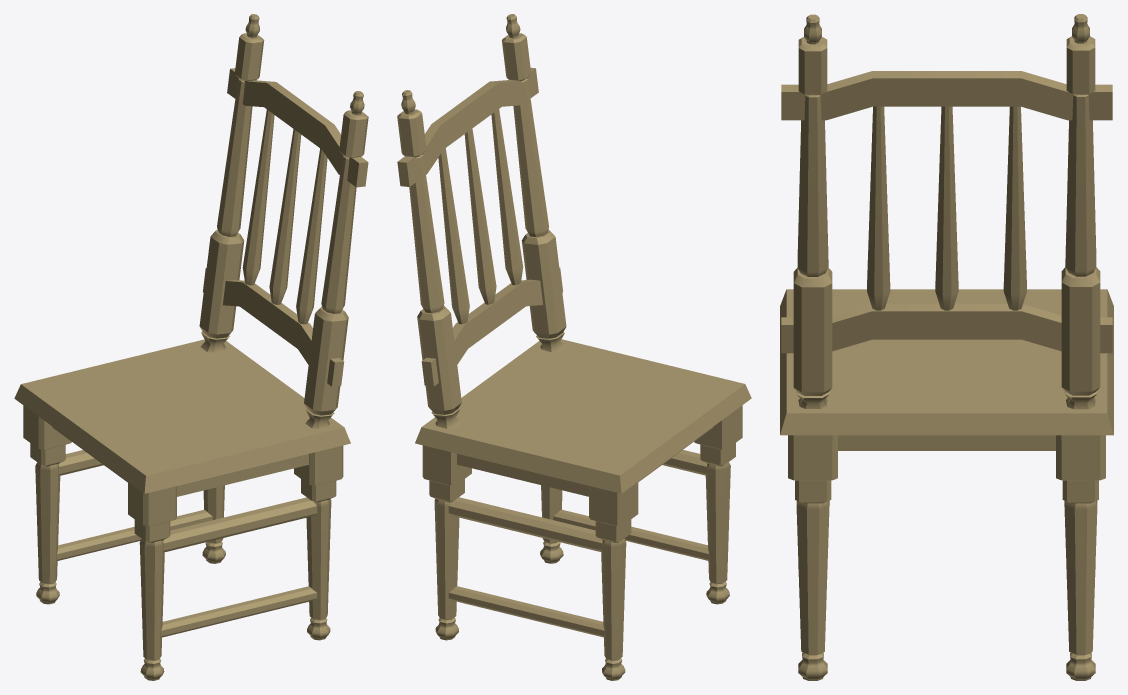
File: msh_chaise.fbx
3 renders of one model, left to right at view 1: azimuth 30°, elevation 25°; view 2: azimuth 150°, elevation 25°; view 3: azimuth 270°, elevation 25°, orthographic. The views are drawn at different scales.
Visible parts, largest first — view 1: GRP_up02_msh_leftUp4; view 2: GRP_up02_msh_leftUp4; view 3: GRP_up02_msh_leftUp4.
Part boxes in pixels (box(x1,y1,x2,y2)): GRP_up02_msh_leftUp4: box(14, 14, 368, 680); GRP_up02_msh_leftUp4: box(397, 14, 751, 680); GRP_up02_msh_leftUp4: box(780, 14, 1113, 680).
Bounding box in the file's own units: 91.35 × 200 × 88.13.
